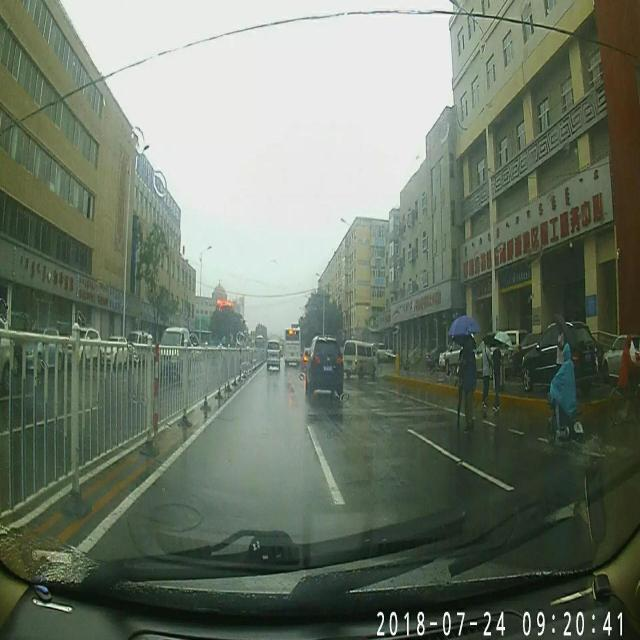car: (520, 317, 602, 393), (302, 332, 346, 397), (22, 324, 65, 369), (158, 323, 194, 371), (66, 321, 103, 367), (340, 338, 380, 377), (100, 334, 130, 364), (126, 328, 152, 359), (262, 339, 280, 367)
